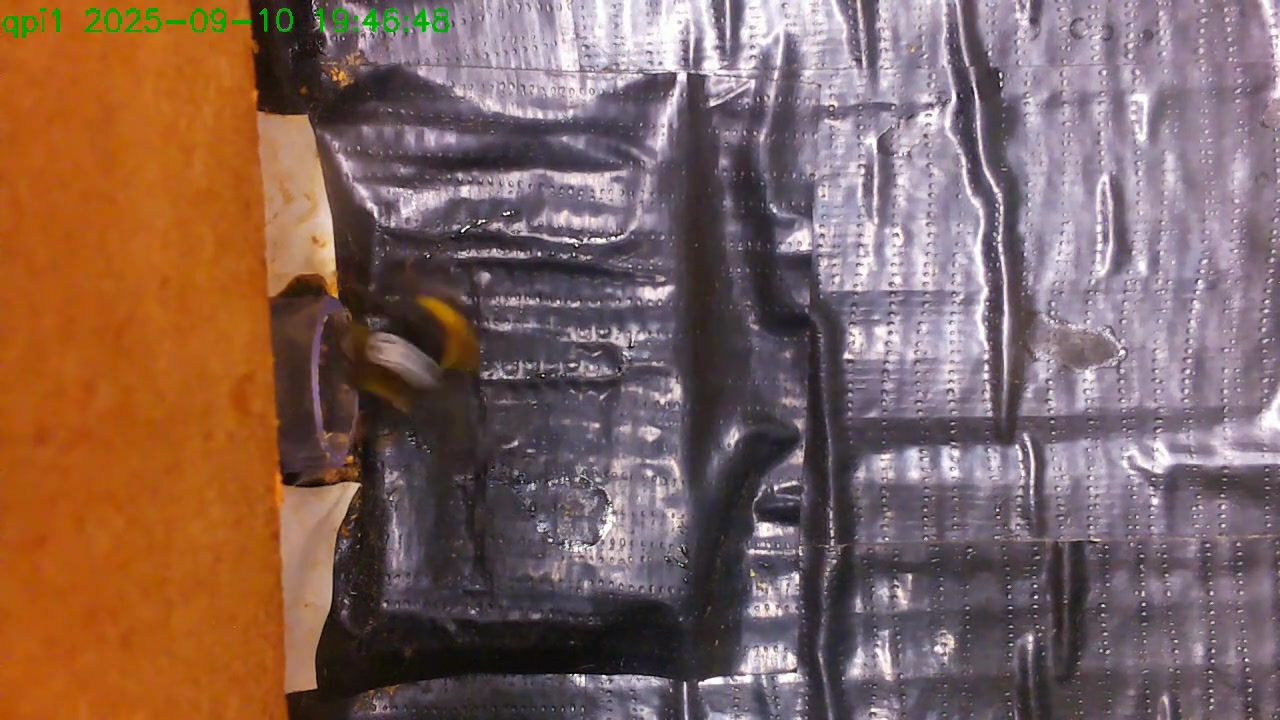bee: (323, 248, 502, 450)
